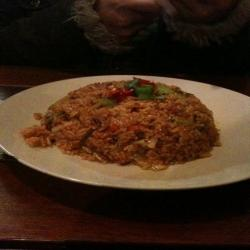rice: (40, 78, 227, 178)
